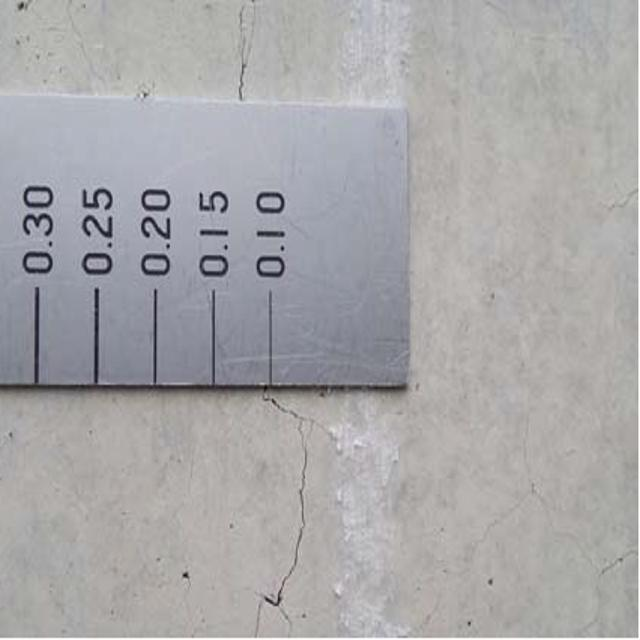crack: (244, 393, 333, 640), (226, 0, 270, 120)
